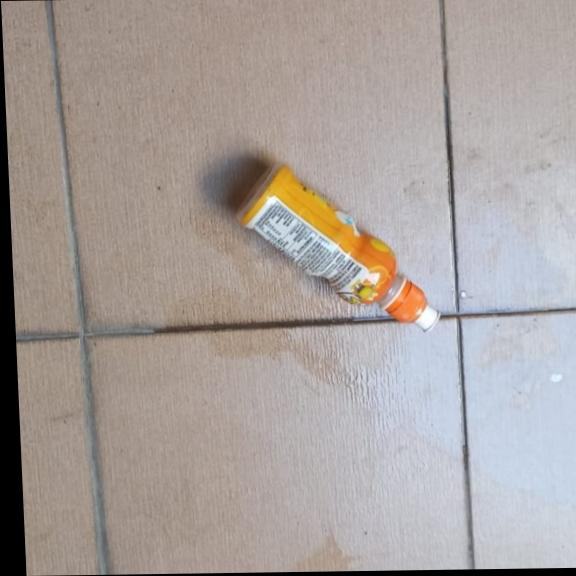Plastik: (233, 156, 443, 335)
